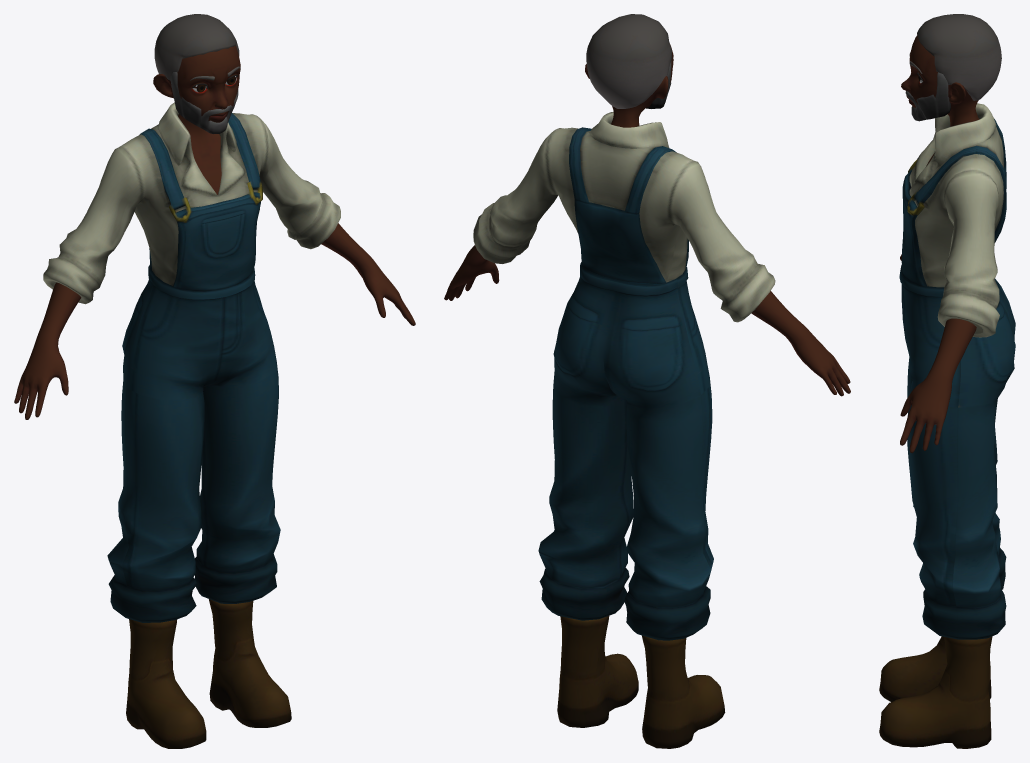
File: Daniel2_Mesh.obj
The picture shows the model from 3 angles, left to right: view 1: azimuth 30°, elevation 25°; view 2: azimuth 150°, elevation 25°; view 3: azimuth 270°, elevation 25°; orthographic projection.
Visible parts, largest first — view 1: Daniel2_Mesh_0; view 2: Daniel2_Mesh_0; view 3: Daniel2_Mesh_0.
Part boxes in pixels (bbox=[...]): Daniel2_Mesh_0: bbox=[14, 14, 415, 748]; Daniel2_Mesh_0: bbox=[444, 14, 850, 748]; Daniel2_Mesh_0: bbox=[879, 14, 1015, 748].
Size of the model in its own units: 1.06 by 1.8 by 0.3179.
1 material, 1 textured.
